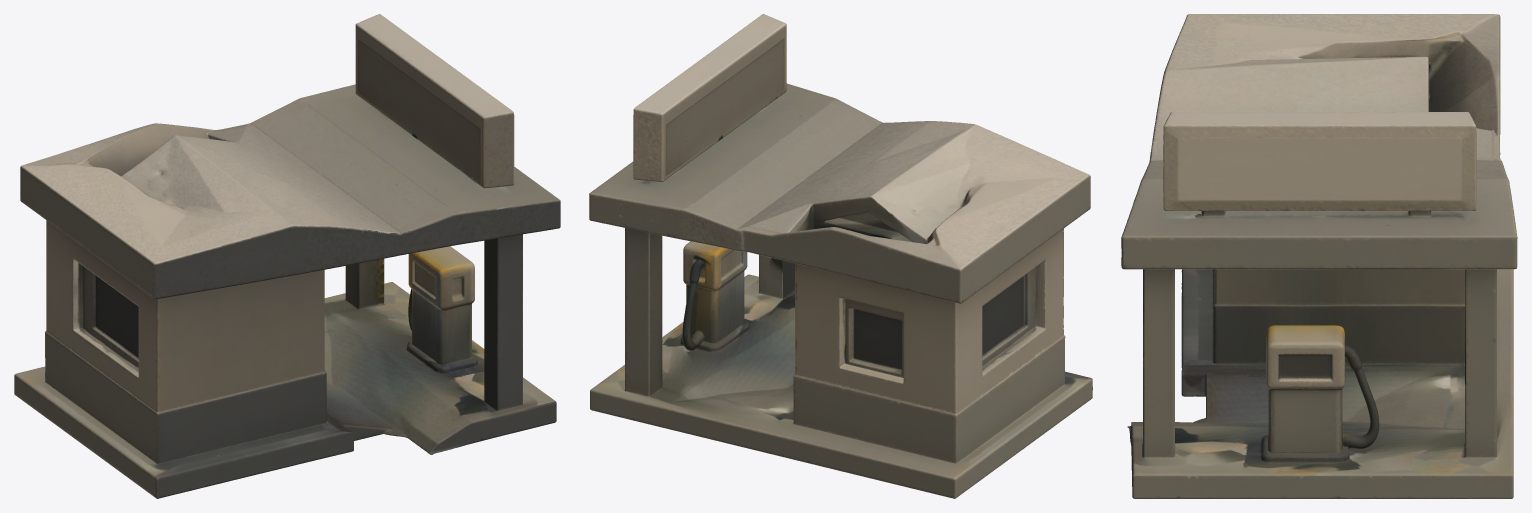
The model's file is PetrolStation.glb.
3 views of the same model, side by side, from view 1: azimuth 30°, elevation 25°; view 2: azimuth 150°, elevation 25°; view 3: azimuth 270°, elevation 25° (orthographic). The views are drawn at different scales.
Parts seen in each view (by area): view 1: tripo_node_29607fc4; view 2: tripo_node_29607fc4; view 3: tripo_node_29607fc4.
Part boxes in pixels (<box>): tripo_node_29607fc4: <box>14,14,560,498</box>; tripo_node_29607fc4: <box>589,14,1092,498</box>; tripo_node_29607fc4: <box>1121,14,1517,498</box>.
Bounding box in the file's own units: 1 × 0.7775 × 0.7795.
1 material, 1 textured.
